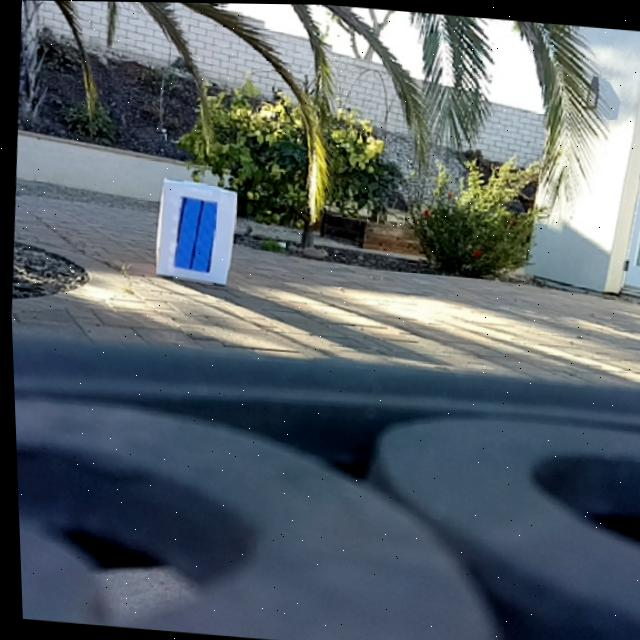led: (176, 196, 214, 278)
